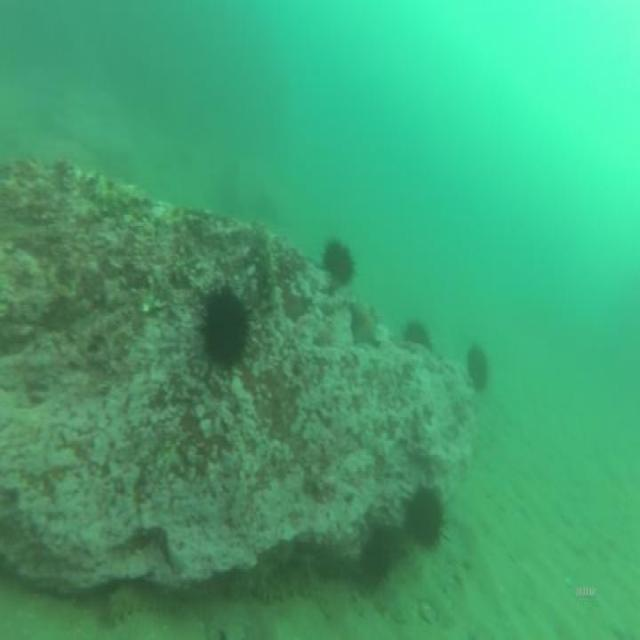echinus: (192, 277, 260, 387), (398, 469, 452, 561), (358, 507, 404, 596), (318, 228, 358, 290), (464, 342, 492, 398), (402, 312, 434, 356)
holothurian: (104, 577, 179, 630), (241, 558, 315, 607), (249, 231, 284, 308)
starfish: (347, 298, 385, 351)
